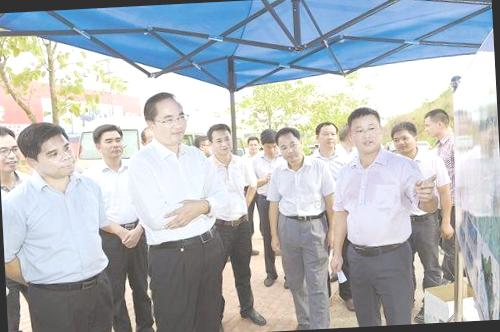no_helmet: (16, 120, 76, 187), (140, 88, 190, 148), (344, 105, 387, 156), (90, 118, 128, 162), (387, 119, 421, 159), (205, 117, 236, 159), (0, 124, 24, 176), (274, 123, 303, 164), (424, 105, 455, 142), (312, 120, 342, 154), (258, 126, 282, 162), (246, 134, 262, 158)
